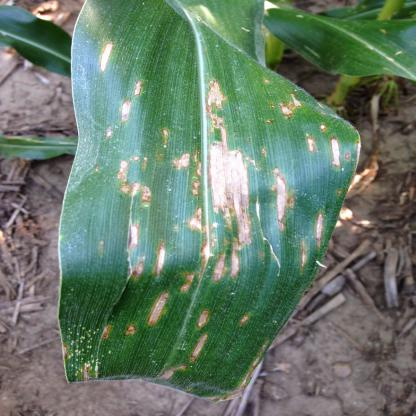corn leaf blight: (54, 1, 336, 416)
